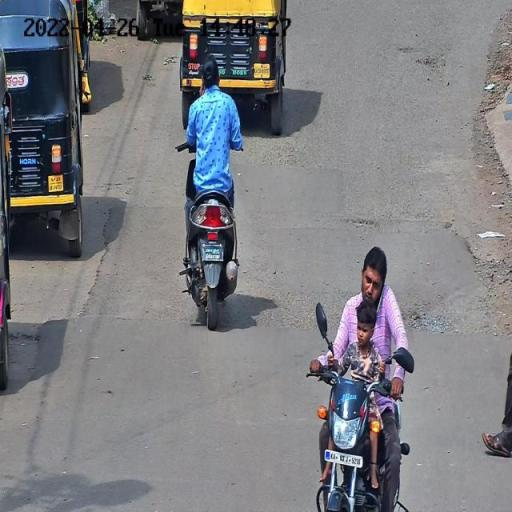using mobile: (363, 274, 391, 322)
